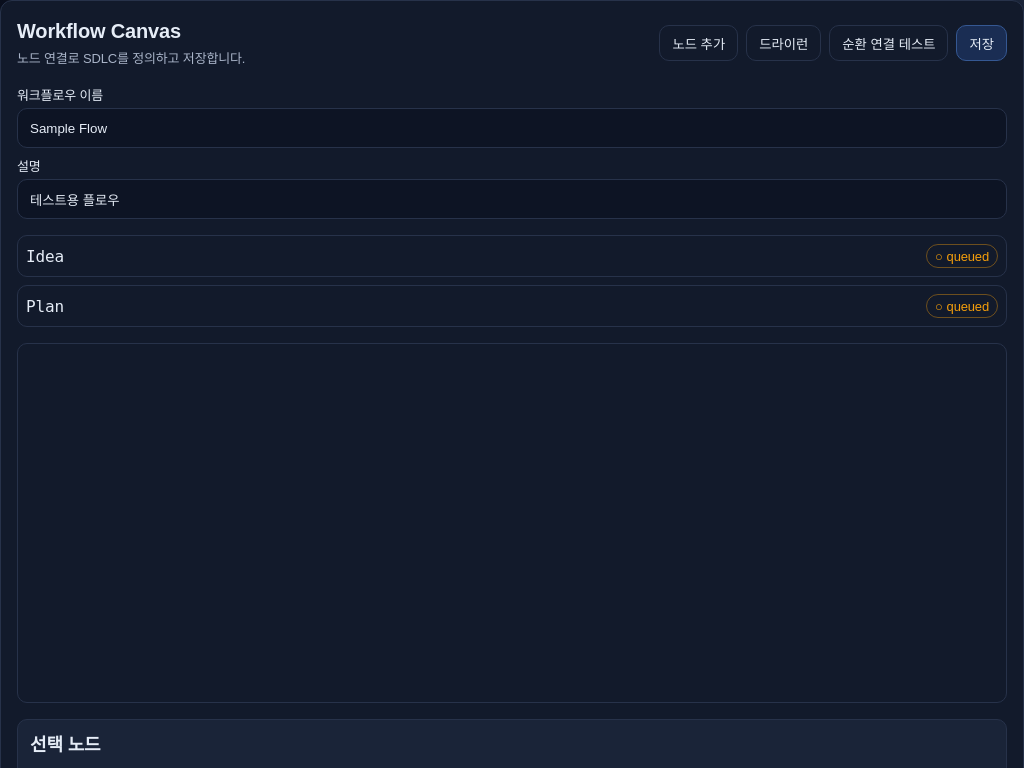
Test case: WorkflowBuilder › 저장 시 단절 그래프를 클라이언트에서 차단한다
Click the button "노드 추가": (699, 43) [659,25,738,61]
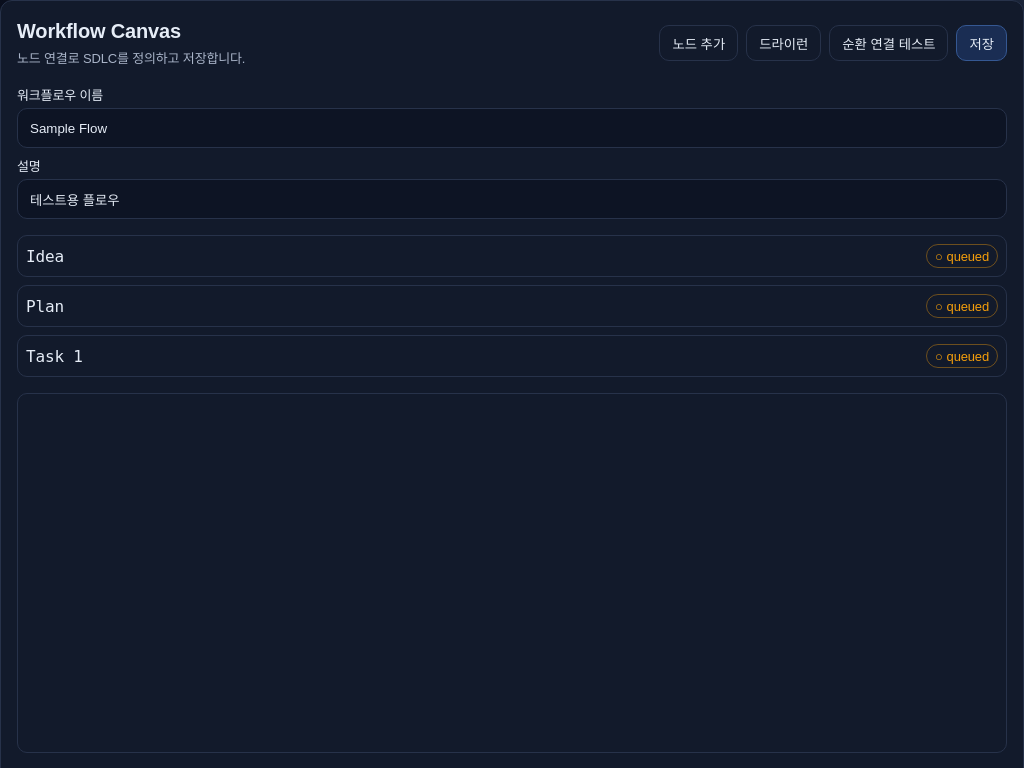
Click the button "저장": (982, 43) [956,25,1007,61]
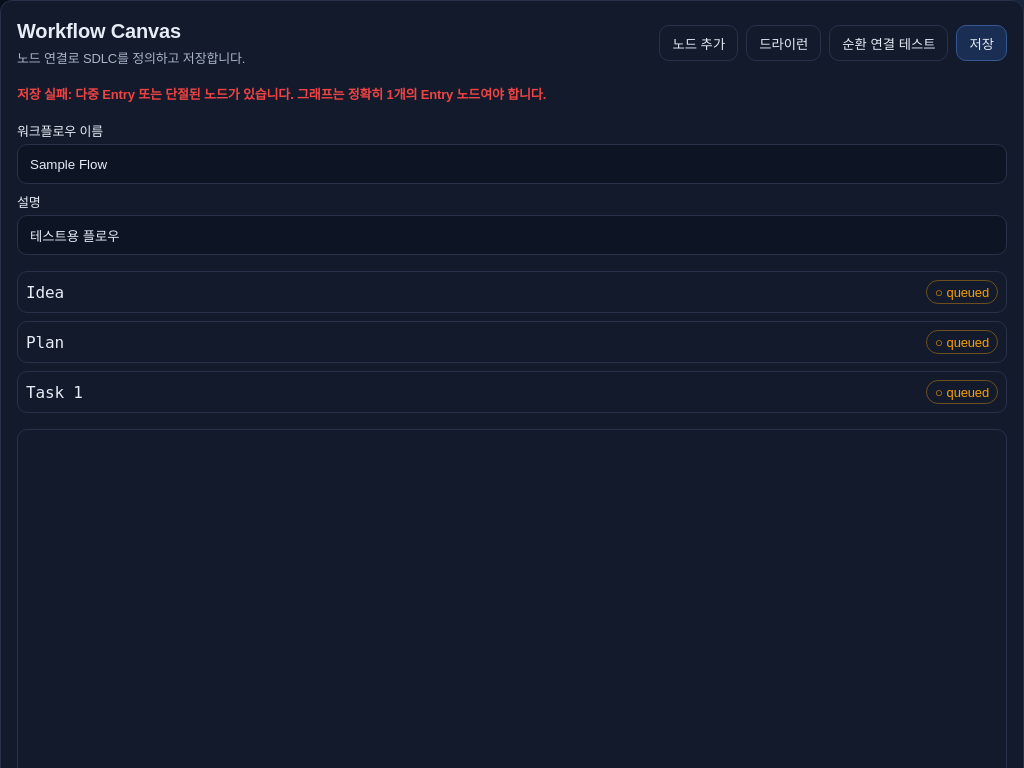
Expected: the text "저장 실패: 다중 Entry 또는 단절된 노드가 있습니다. 그래프는 정확히 1개의 Entry 노드여야 합니다." is shown, [17,87,546,102]
